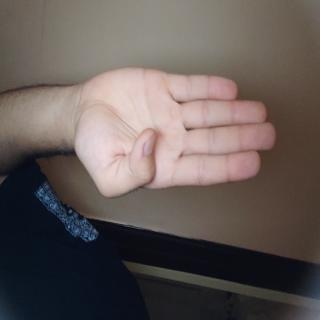KAAF: (45, 48, 152, 320)
